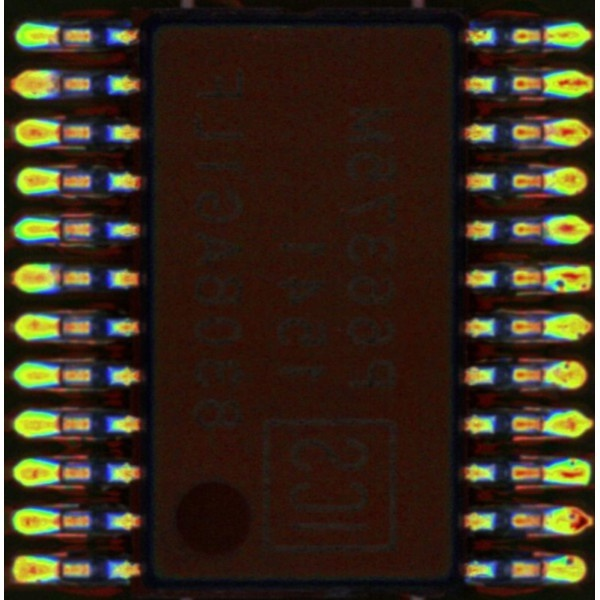Bad_podu: (42, 321, 72, 336), (526, 126, 561, 138), (41, 126, 71, 139), (40, 31, 71, 43), (44, 419, 72, 432), (44, 516, 72, 529), (40, 224, 72, 235), (525, 31, 557, 41)
